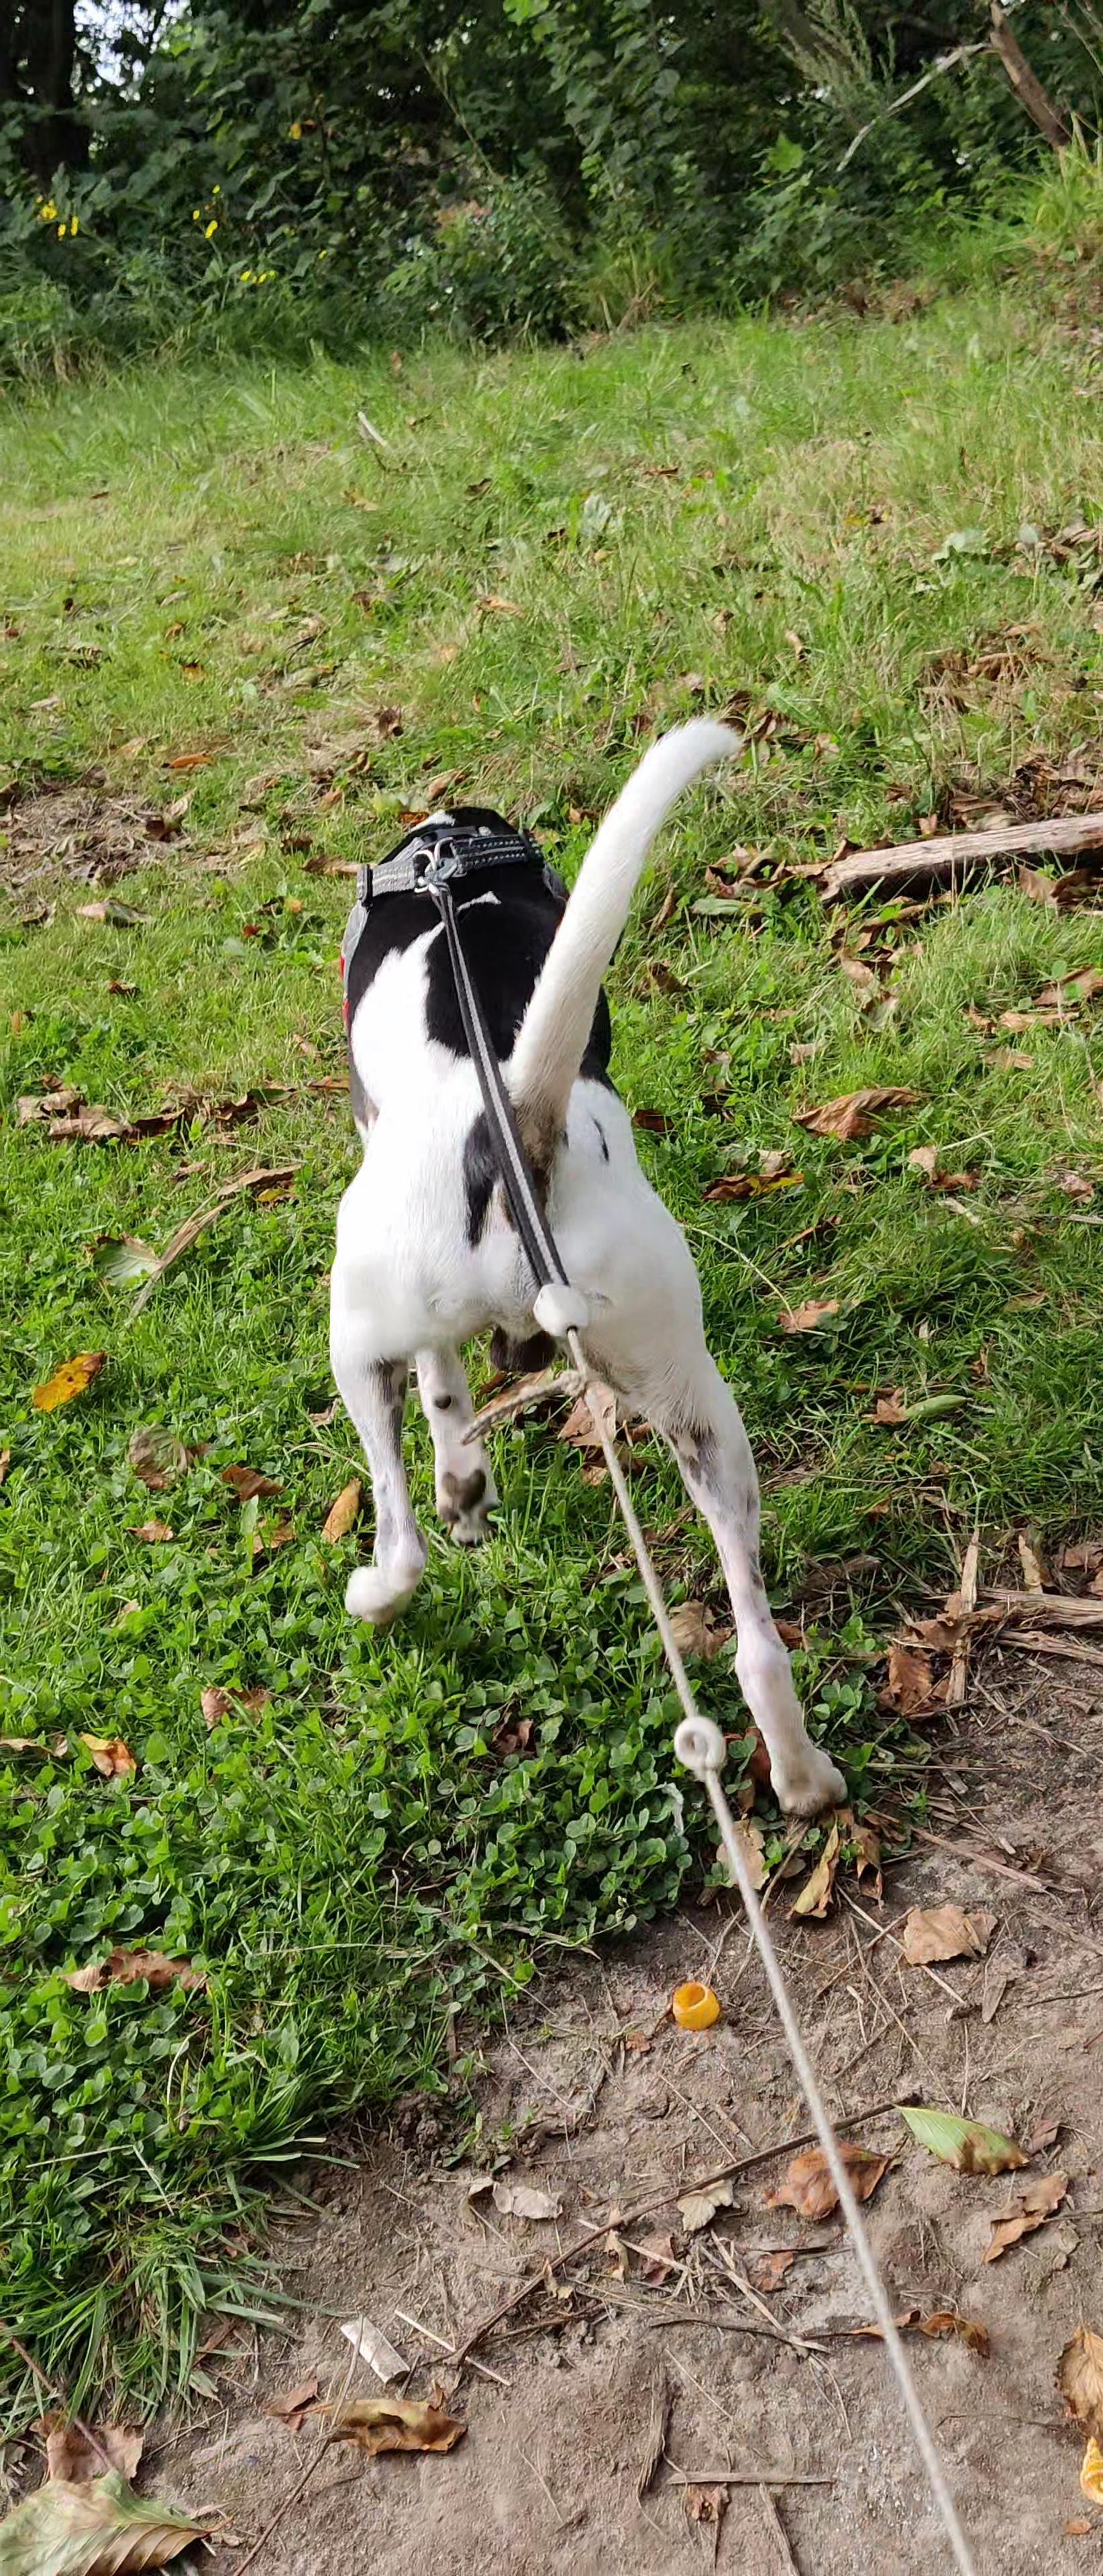Dog: (312, 705, 861, 1820)
